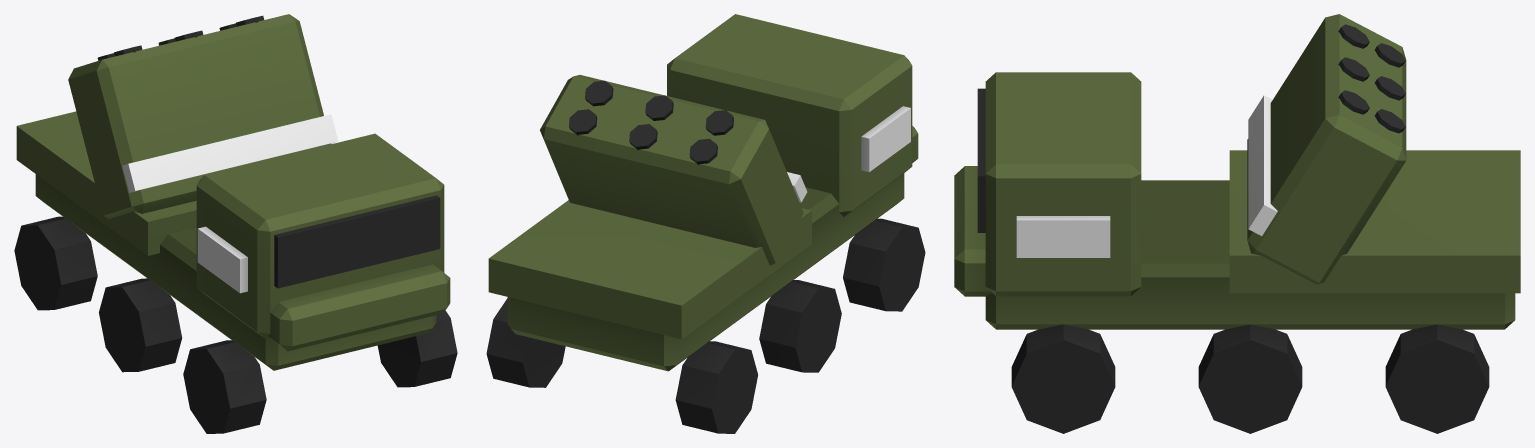
File: ua-himars.glb
The picture shows the model from 3 angles, left to right: view 1: azimuth 30°, elevation 25°; view 2: azimuth 150°, elevation 25°; view 3: azimuth 270°, elevation 25°; orthographic projection. The views are drawn at different scales.
Visible parts, largest first — view 1: ua-himars, turret; view 2: ua-himars, turret; view 3: ua-himars, turret.
Boxes of the visible parts, x1,y1,x2,y2 form: ua-himars: [14, 111, 457, 433]; turret: [68, 14, 338, 219]; ua-himars: [486, 14, 925, 433]; turret: [540, 75, 807, 265]; ua-himars: [954, 72, 1520, 433]; turret: [1247, 14, 1406, 284].
Size of the model in its own units: 0.56 by 0.6641 by 1.09.
